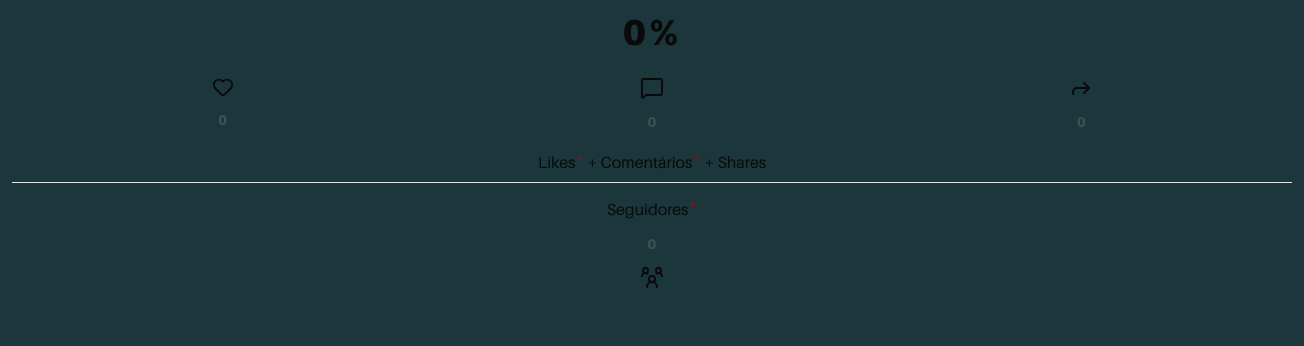
Test: EngagementCalculator › drops non-digit characters from the count fields
The width and height of the screenshot is (1304, 346).
Type "1a2" into the field named "Curtidas" at (223, 120), box [12,106,433,134]
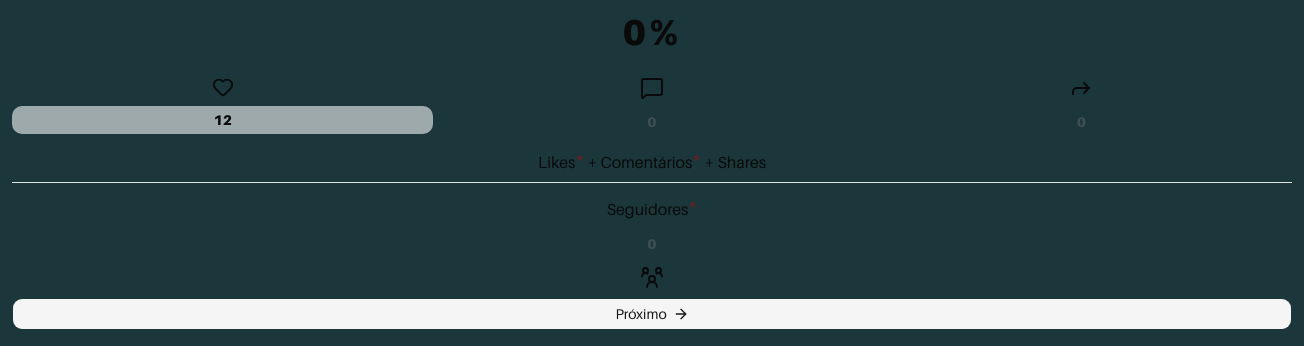
Expected: the field named "Curtidas" holds "12", [12,106,433,134]
